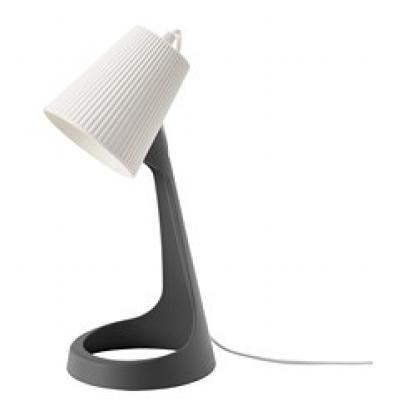Lamp: (32, 12, 228, 399)
